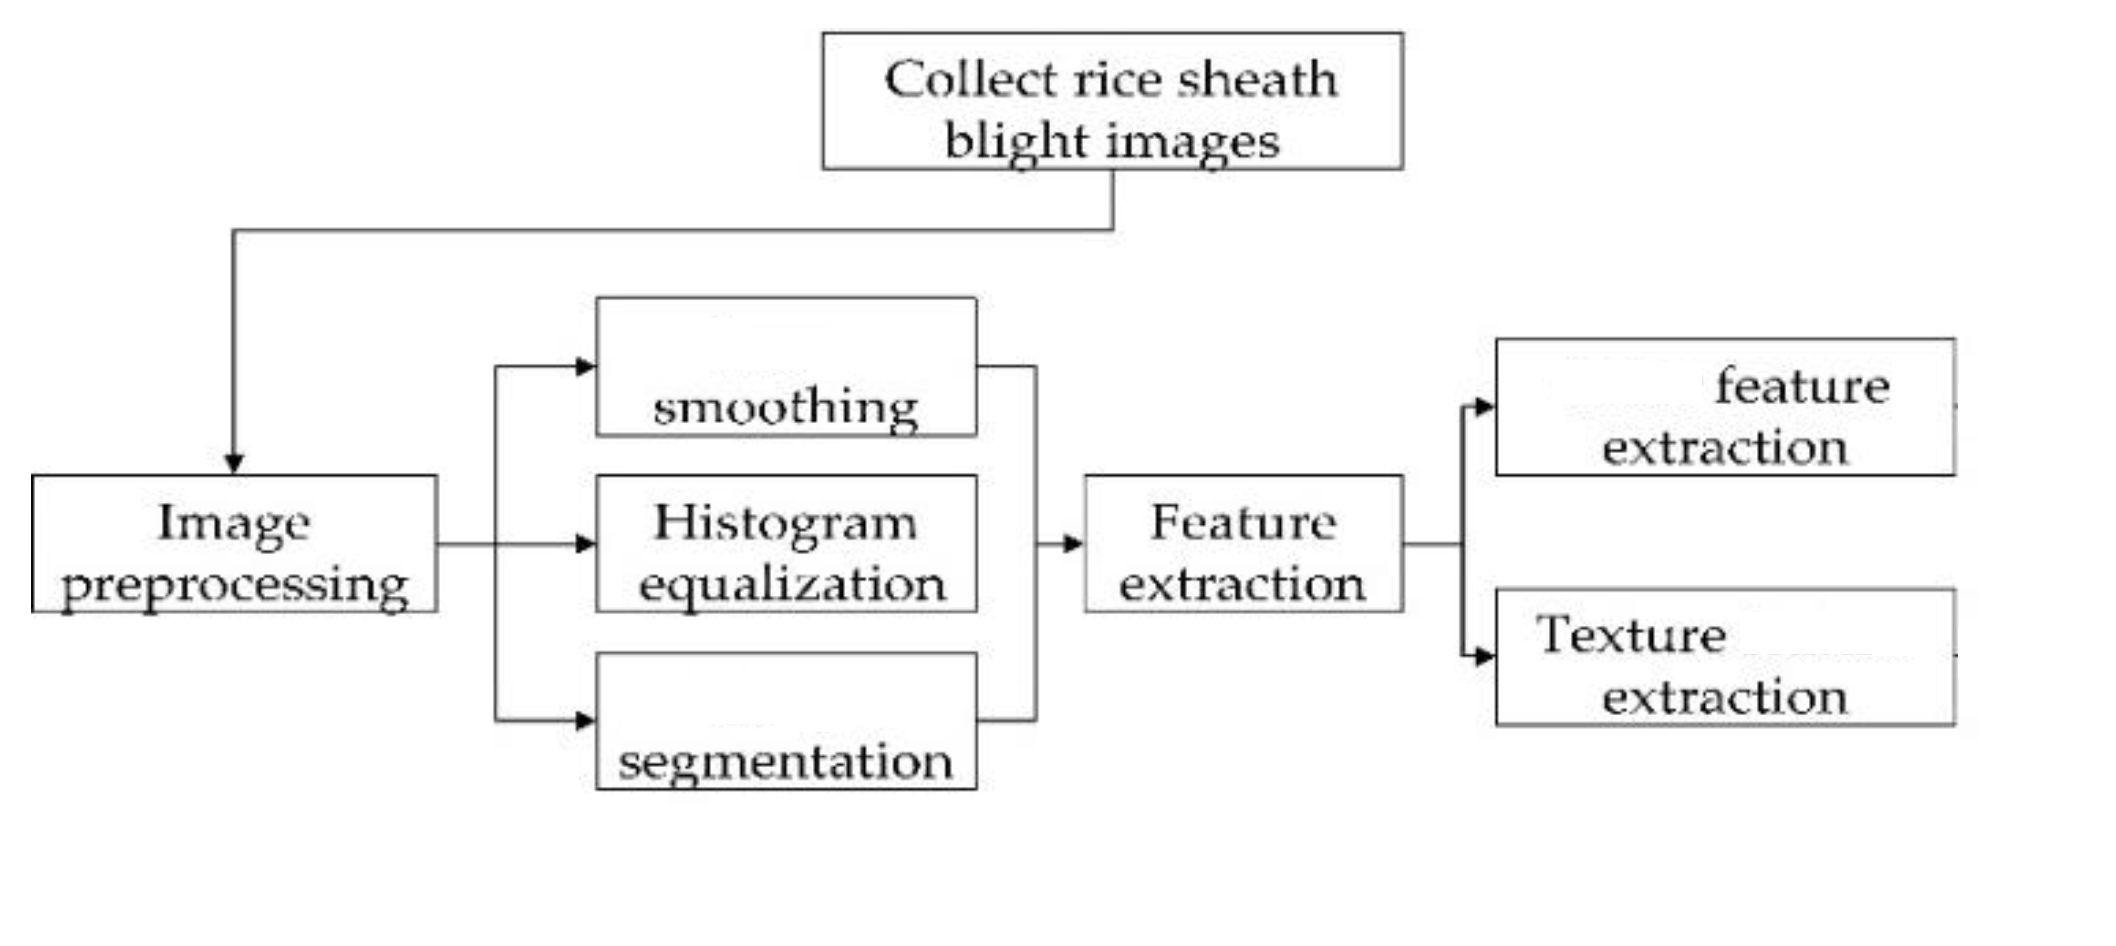arrow: (219, 171, 1120, 476), (977, 354, 1082, 565), (981, 522, 1086, 733), (476, 354, 599, 528), (484, 556, 605, 731), (1399, 389, 1493, 555), (1405, 534, 1495, 669), (435, 530, 595, 557)
process: (814, 22, 1416, 186), (1488, 578, 1964, 740), (1491, 331, 1968, 487), (24, 463, 449, 622), (586, 640, 984, 803), (588, 286, 984, 449), (588, 467, 986, 618), (1073, 467, 1412, 622)
text: (874, 49, 1343, 178), (55, 493, 414, 619), (629, 497, 959, 618), (1592, 350, 1895, 476), (1522, 605, 1851, 718), (1117, 497, 1367, 613), (613, 744, 964, 798), (650, 377, 920, 444)
